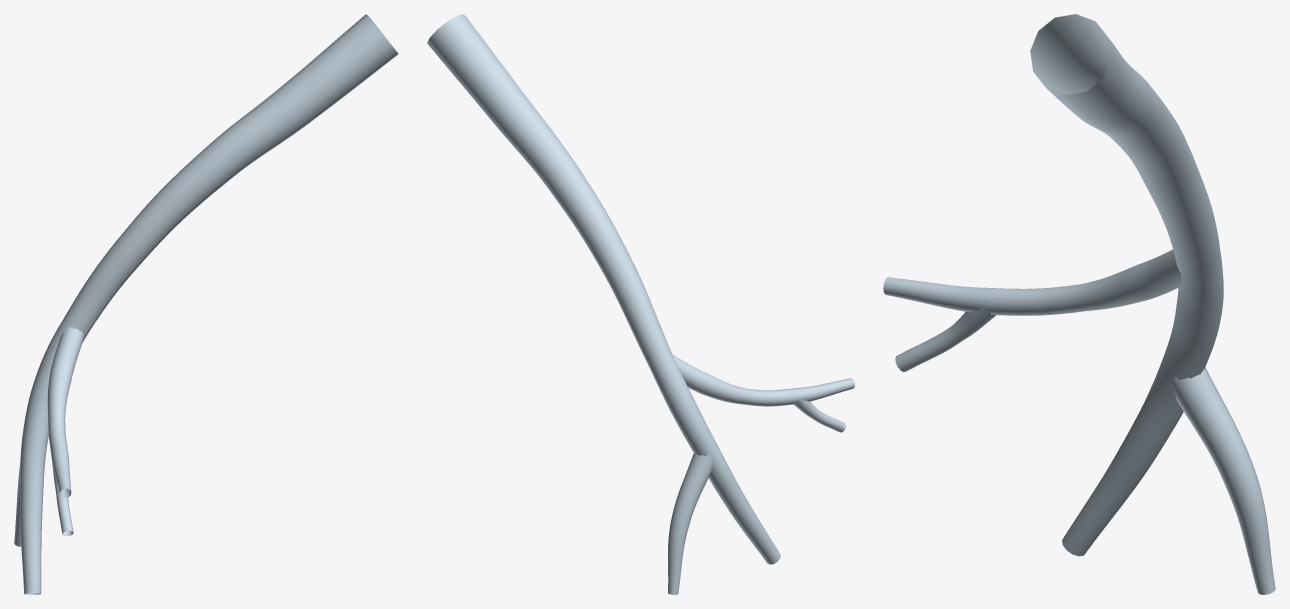
Rendered from visceras-lateral-basal-segmental-bronchus-of-right-lung-bix.glb.
The picture shows the model from 3 angles, left to right: view 1: azimuth 30°, elevation 25°; view 2: azimuth 150°, elevation 25°; view 3: azimuth 270°, elevation 25°; orthographic projection. The views are drawn at different scales.
Visible parts, largest first — view 1: Lateral basal segmental bronchus of right lung (BIX); view 2: Lateral basal segmental bronchus of right lung (BIX); view 3: Lateral basal segmental bronchus of right lung (BIX).
Part boxes in pixels (x1=…): Lateral basal segmental bronchus of right lung (BIX): x1=14, y1=14, x2=398, y2=594; Lateral basal segmental bronchus of right lung (BIX): x1=427, y1=14, x2=854, y2=594; Lateral basal segmental bronchus of right lung (BIX): x1=883, y1=14, x2=1275, y2=594.
Bounding box in the file's own units: 0.0788 × 0.0963 × 0.0425.
